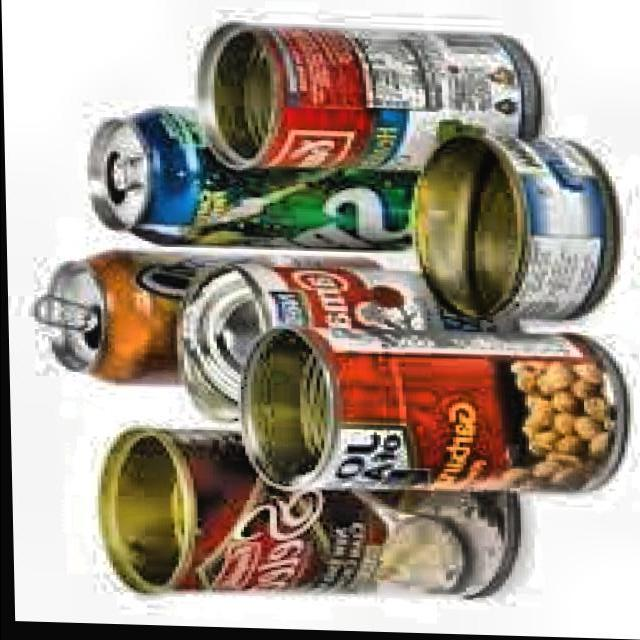Aluminum Can: (84, 426, 523, 608), (232, 324, 629, 500), (172, 266, 518, 437), (189, 18, 543, 180), (79, 108, 435, 256), (29, 252, 388, 398), (400, 130, 622, 326)
